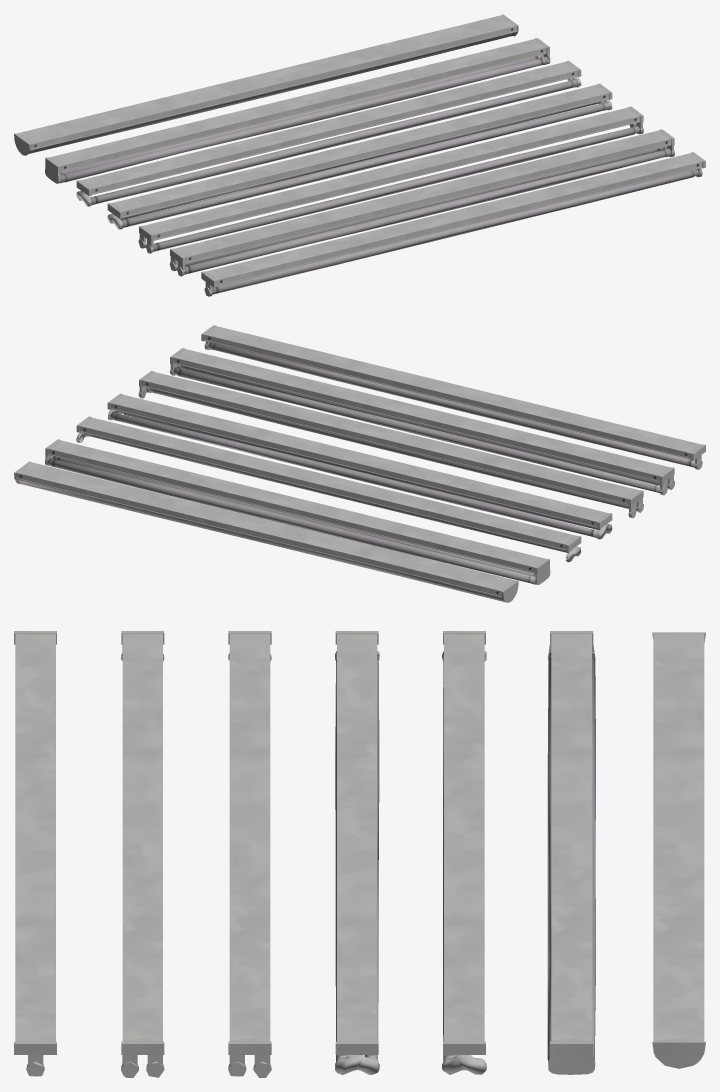
Rendered from fluoro.glb.
3 views of the same model, one above another, from view 1: azimuth 30°, elevation 25°; view 2: azimuth 150°, elevation 25°; view 3: azimuth 270°, elevation 25° (orthographic). The views are drawn at different scales.
Parts seen in each view (by area): view 1: mounted_fluorescent_lights_b, mounted_fluorescent_lights_f, mounted_fluorescent_lights_d, mounted_fluorescent_lights_c, mounted_fluorescent_lights_e, mounted_fluorescent_lights_a, mounted_fluorescent_lights_g; view 2: mounted_fluorescent_lights_f, mounted_fluorescent_lights_b, mounted_fluorescent_lights_d, mounted_fluorescent_lights_a, mounted_fluorescent_lights_g, mounted_fluorescent_lights_c, mounted_fluorescent_lights_e; view 3: mounted_fluorescent_lights_g, mounted_fluorescent_lights_f, mounted_fluorescent_lights_d, mounted_fluorescent_lights_c, mounted_fluorescent_lights_e, mounted_fluorescent_lights_b, mounted_fluorescent_lights_a.
Boxes of the visible parts, bbox=[...] form: mounted_fluorescent_lights_b: bbox=[169, 129, 674, 276]; mounted_fluorescent_lights_f: bbox=[45, 38, 550, 183]; mounted_fluorescent_lights_d: bbox=[107, 83, 612, 229]; mounted_fluorescent_lights_c: bbox=[138, 106, 643, 253]; mounted_fluorescent_lights_e: bbox=[76, 60, 581, 206]; mounted_fluorescent_lights_a: bbox=[201, 152, 705, 296]; mounted_fluorescent_lights_g: bbox=[14, 14, 518, 155]; mounted_fluorescent_lights_f: bbox=[45, 439, 550, 584]; mounted_fluorescent_lights_b: bbox=[170, 348, 674, 495]; mounted_fluorescent_lights_d: bbox=[107, 393, 612, 539]; mounted_fluorescent_lights_a: bbox=[201, 325, 705, 469]; mounted_fluorescent_lights_g: bbox=[14, 461, 518, 602]; mounted_fluorescent_lights_c: bbox=[138, 370, 643, 518]; mounted_fluorescent_lights_e: bbox=[76, 416, 581, 562]; mounted_fluorescent_lights_g: bbox=[652, 632, 705, 1068]; mounted_fluorescent_lights_f: bbox=[547, 631, 595, 1074]; mounted_fluorescent_lights_d: bbox=[335, 631, 379, 1074]; mounted_fluorescent_lights_c: bbox=[228, 631, 271, 1077]; mounted_fluorescent_lights_e: bbox=[442, 631, 486, 1074]; mounted_fluorescent_lights_b: bbox=[121, 631, 164, 1077]; mounted_fluorescent_lights_a: bbox=[14, 631, 56, 1076].
Size of the model in its own units: 0.9122 by 0.0352 by 0.6454.
2 materials, 2 textured.
